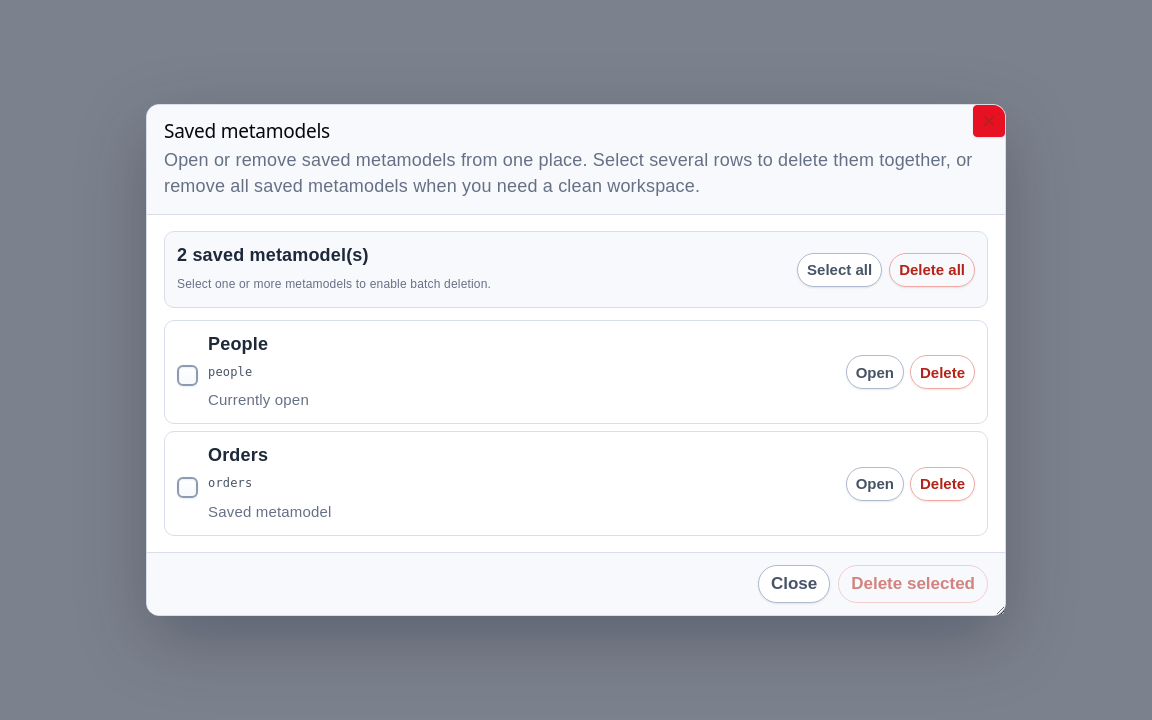
it: MetamodelLibraryDialog › blocks destructive confirmation when impact inspection fails and allows retrying it
The width and height of the screenshot is (1152, 720).
Click the 1st button "Delete". click: (942,372)
box: [910,355,975,389]
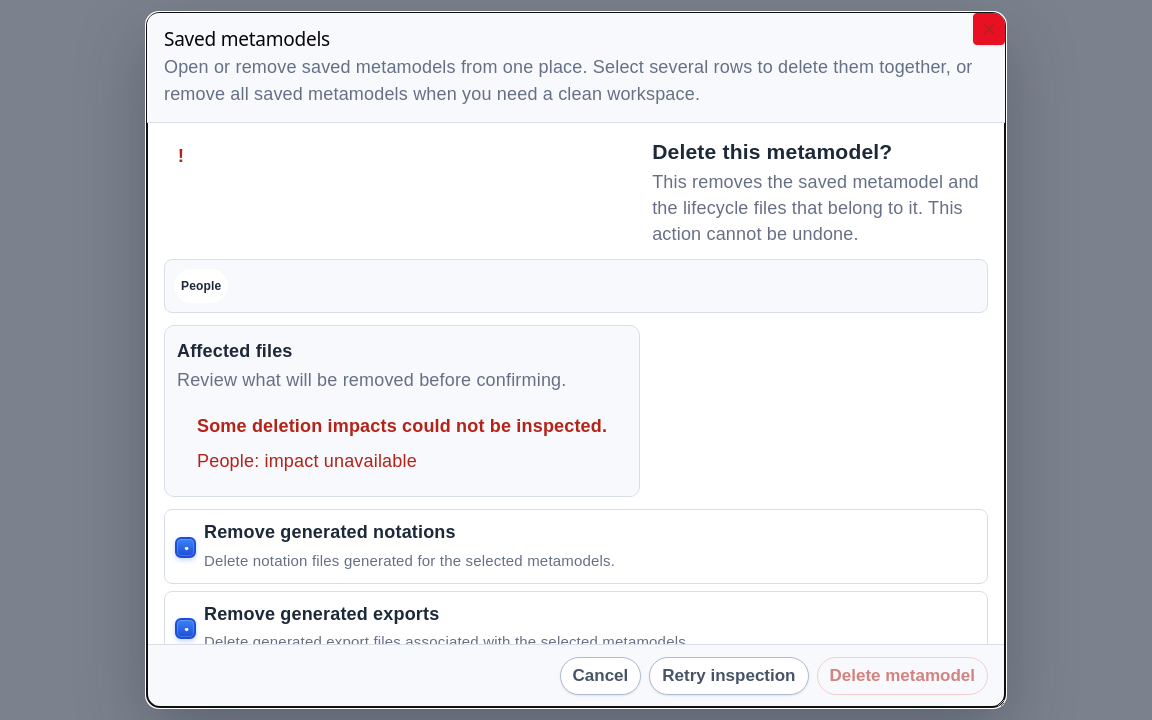
expect the text "Some deletion impacts could not be inspected." is shown: met, box [197,413,607,439]
expect the button "Delete metamodel" is disabled: met, box [816,657,988,695]
Click the button "Retry inspection". click: (729,676)
box: [649,657,808,695]
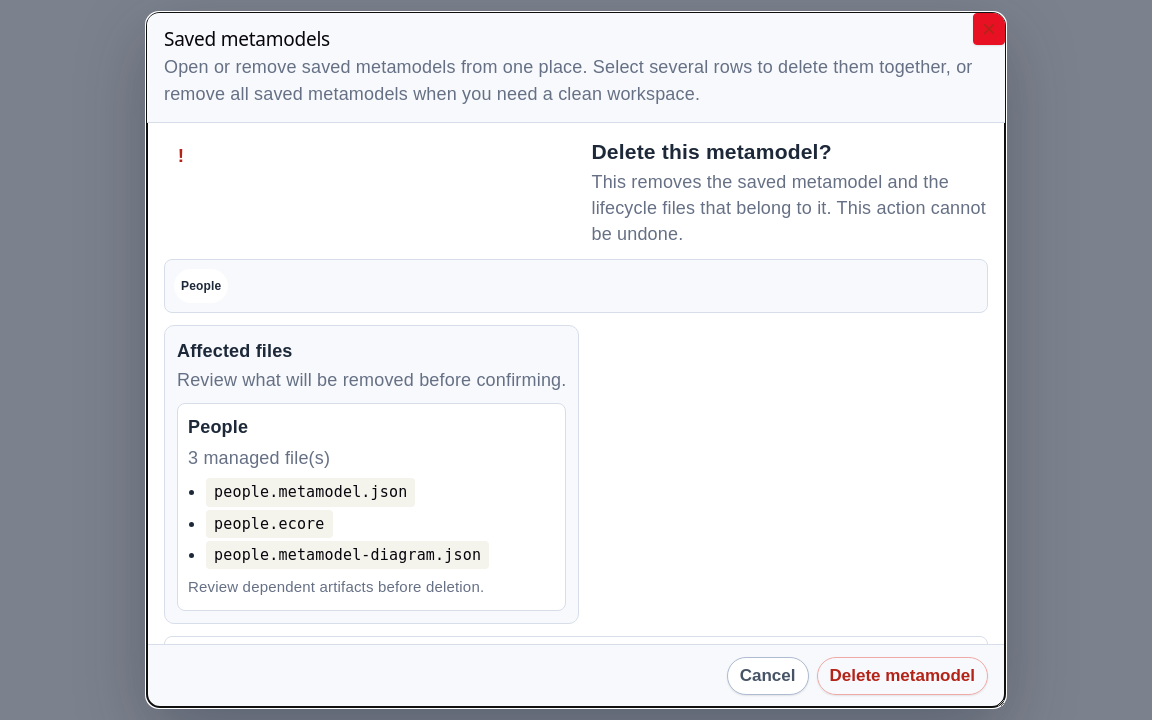
expect the button "Delete metamodel" is enabled: met, box [816,657,988,695]
